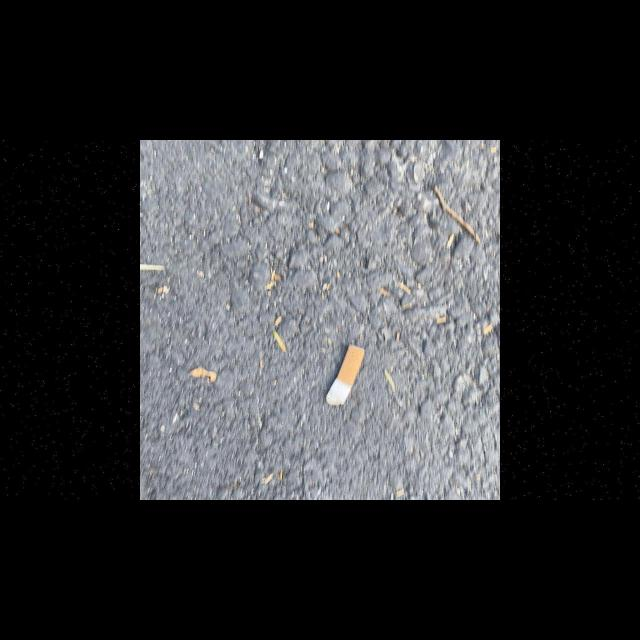cigarette: (326, 343, 366, 406)
